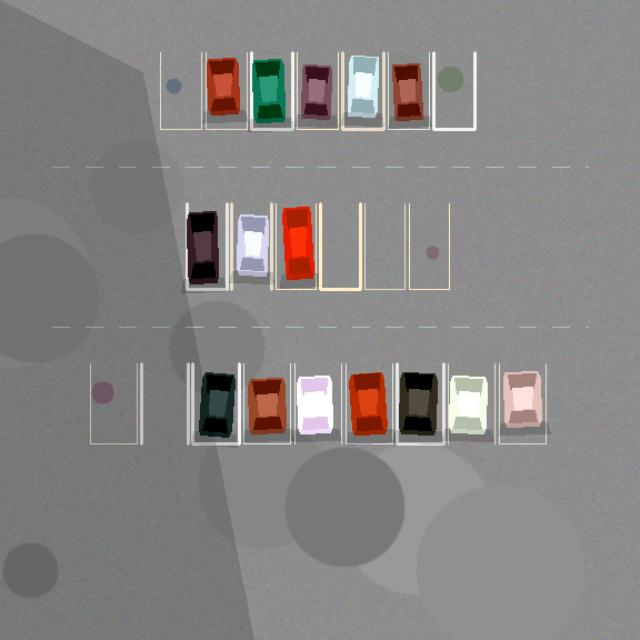space-empty: (90, 363, 137, 443), (141, 363, 188, 443), (320, 203, 360, 289), (364, 203, 404, 289), (409, 203, 449, 289), (160, 52, 201, 129), (433, 52, 474, 129)
space-occupied: (192, 363, 239, 443), (243, 363, 290, 443), (294, 363, 341, 443), (499, 363, 546, 443), (346, 363, 392, 443), (397, 363, 443, 443), (448, 363, 494, 443), (187, 203, 227, 289), (231, 203, 271, 289), (276, 203, 316, 289), (206, 52, 247, 129), (251, 52, 292, 129), (297, 52, 338, 129), (342, 52, 383, 129), (388, 52, 429, 129)
